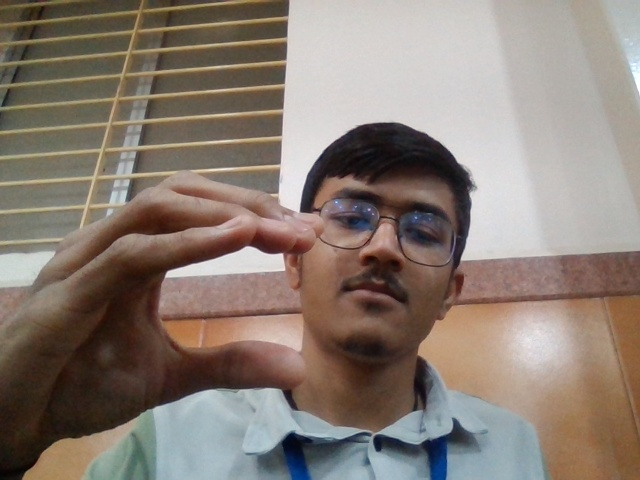No: (1, 162, 331, 434)
